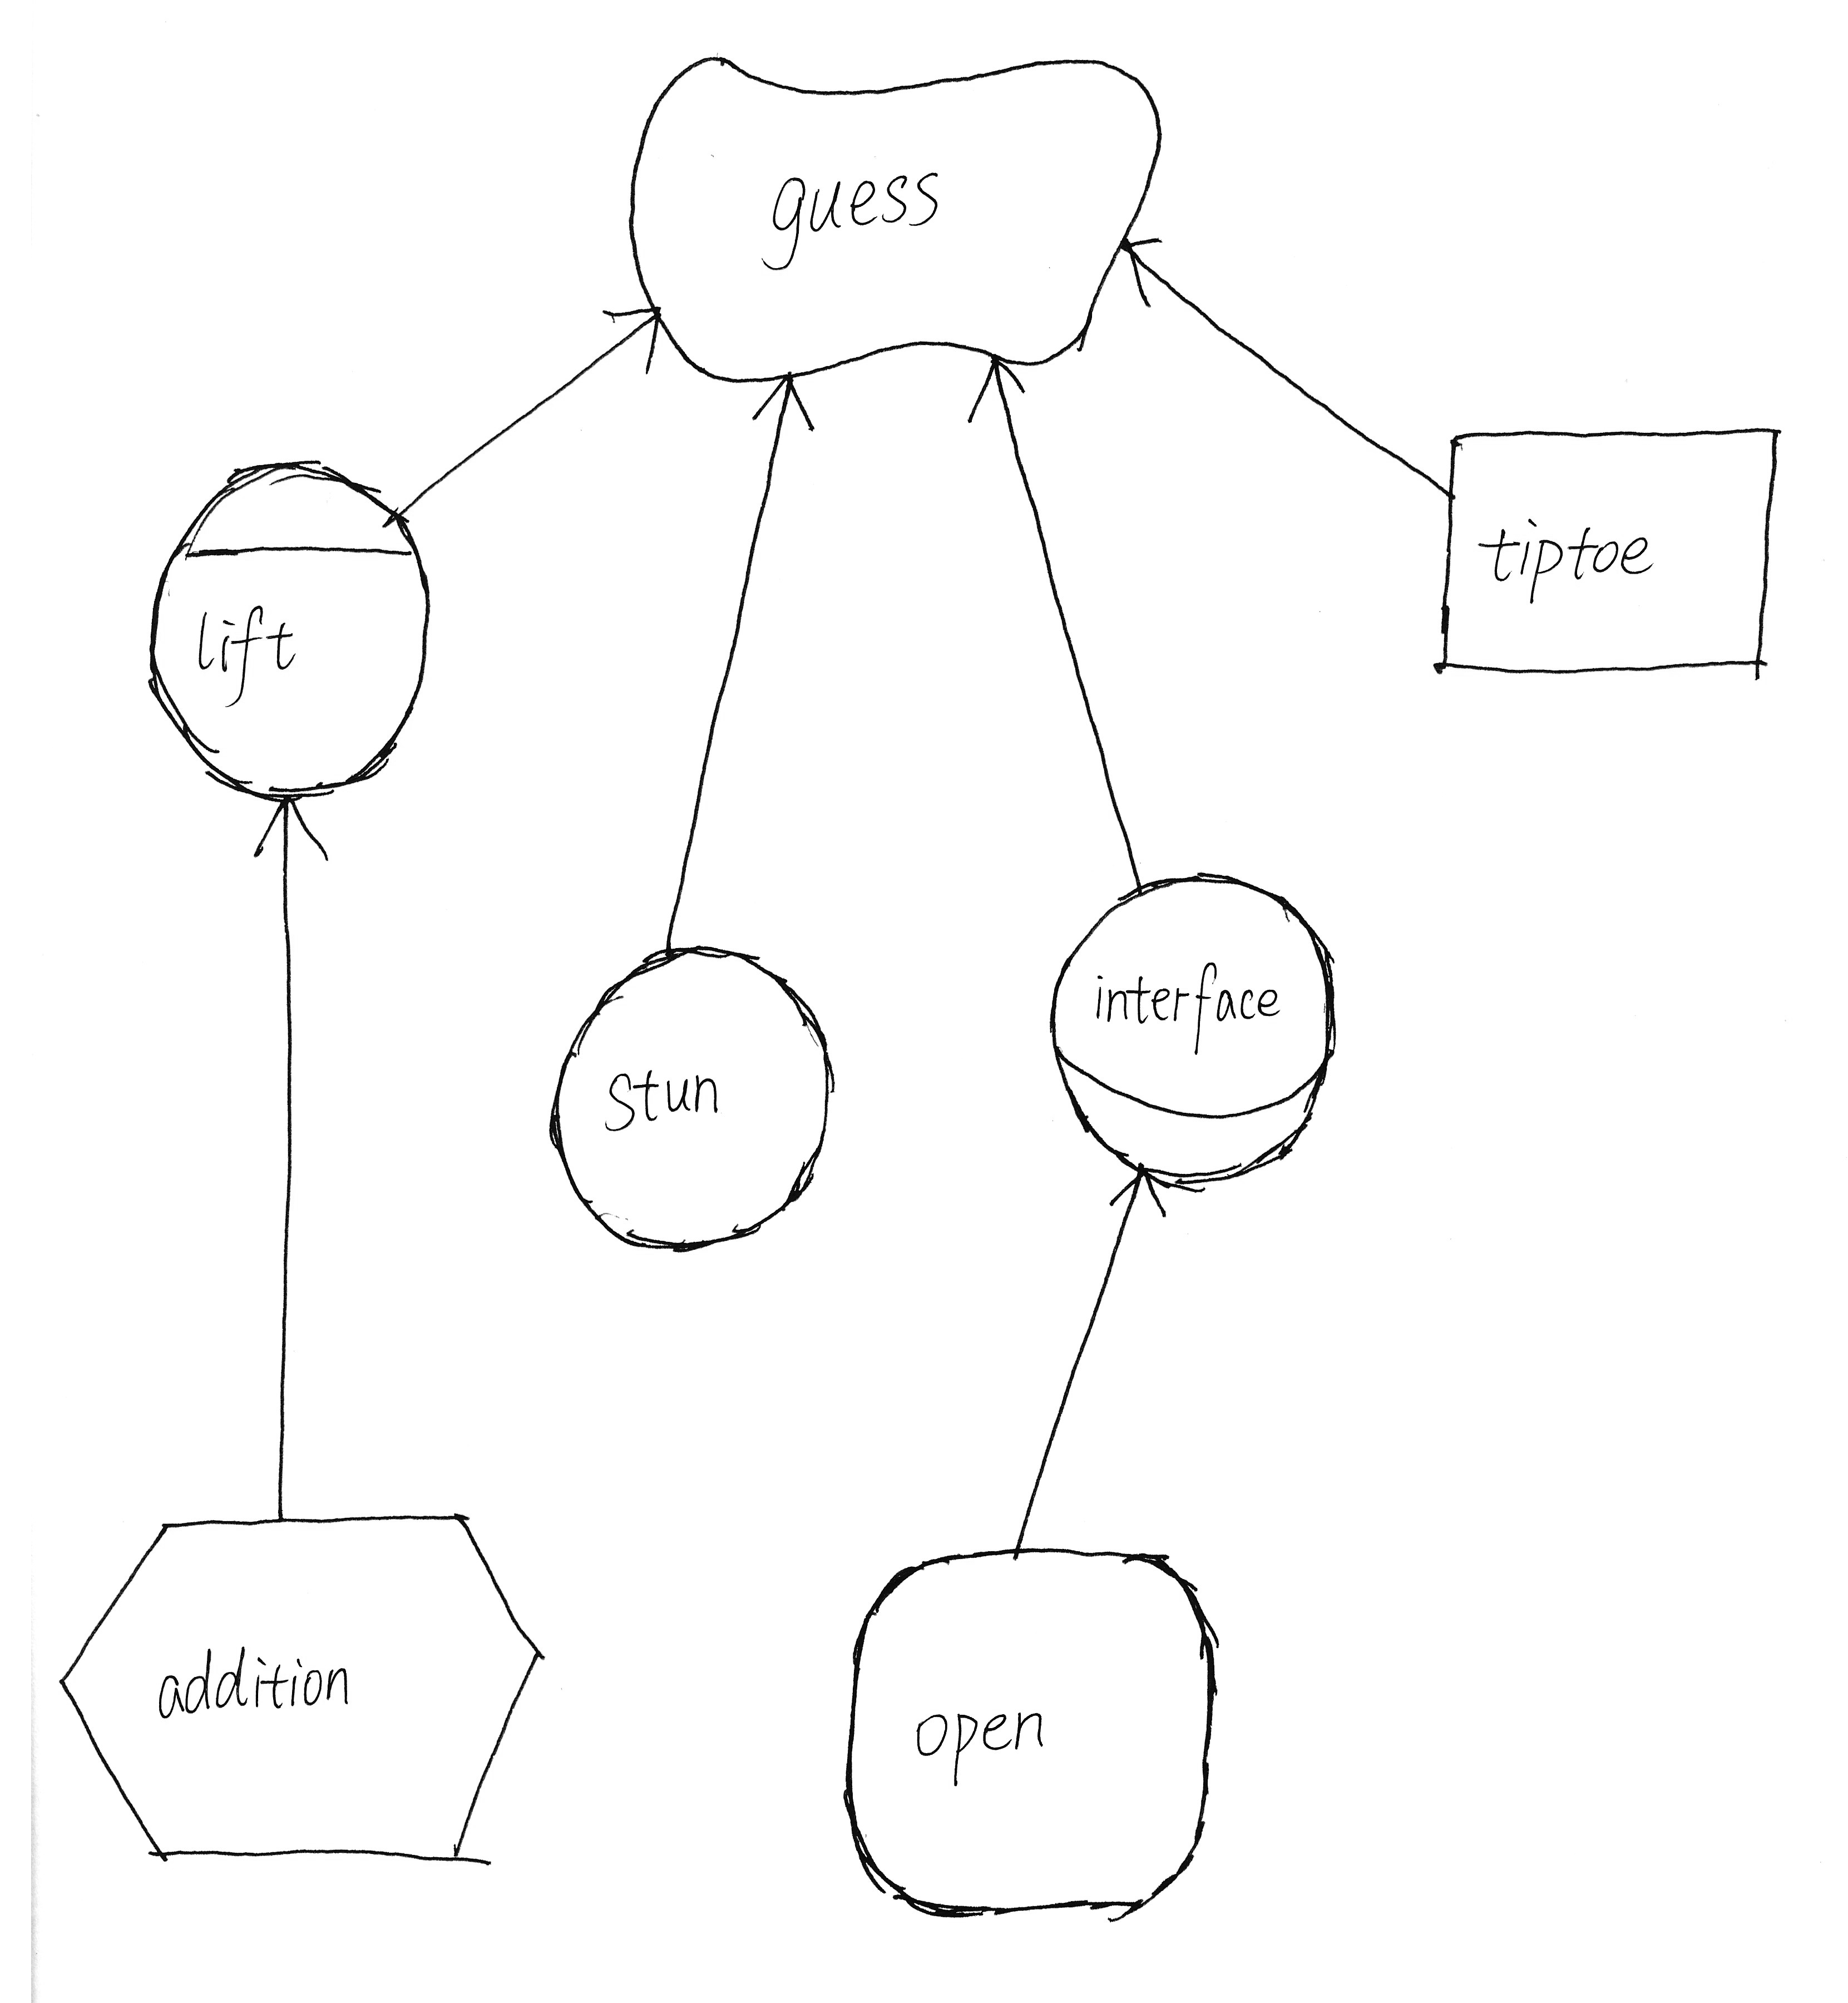actor: (529, 919, 855, 1272)
agent: (124, 438, 454, 824)
arrow: (1094, 201, 1194, 321), (946, 330, 1040, 450), (230, 776, 339, 881), (1077, 1145, 1197, 1235), (590, 281, 686, 394), (745, 358, 824, 455)
goal: (810, 1523, 1235, 1924)
quality: (602, 28, 1192, 400)
resource: (1413, 403, 1804, 710)
role: (1031, 853, 1356, 1204)
task: (37, 1490, 579, 1888)
